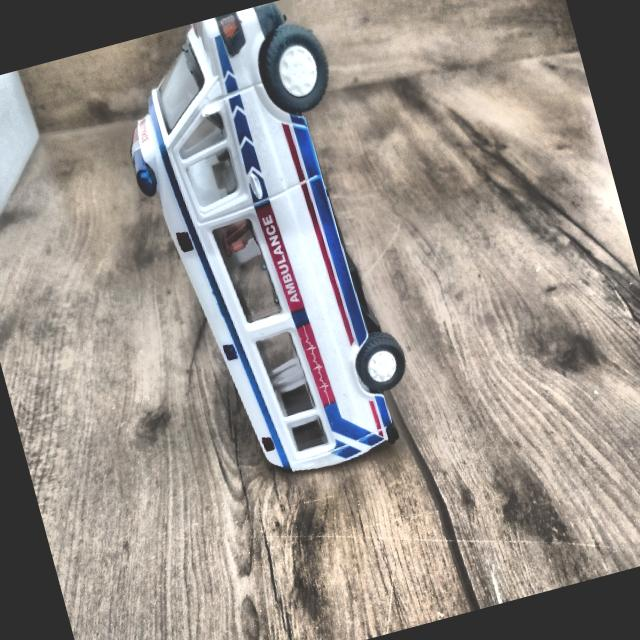Ambulance: (100, 0, 434, 500)
